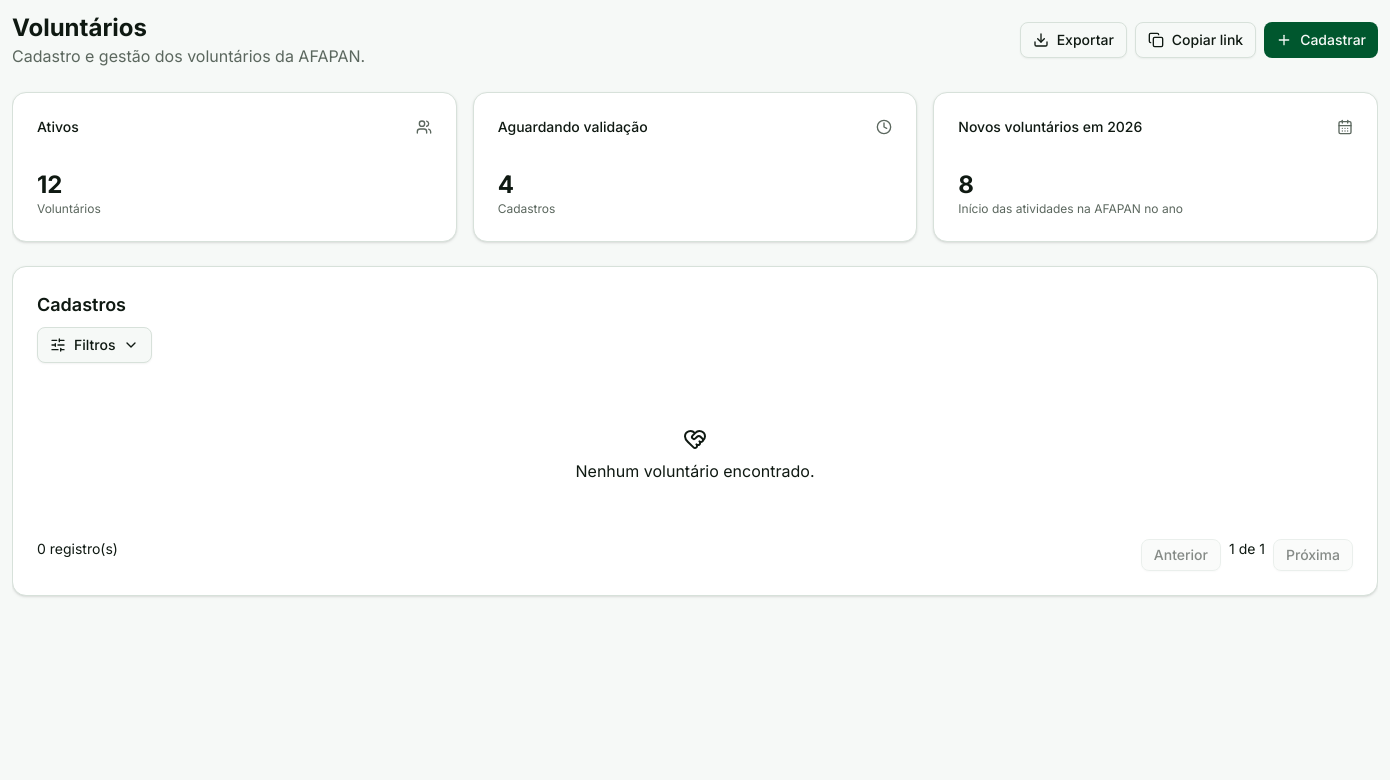
Scenario: listagem de voluntários com cadastro permanente › inicia com filtros recolhidos e permite expandir
Check: the field with placeholder "Cidade" is not shown
Click the button "Filtros" at (95, 345), box [37,327,152,363]
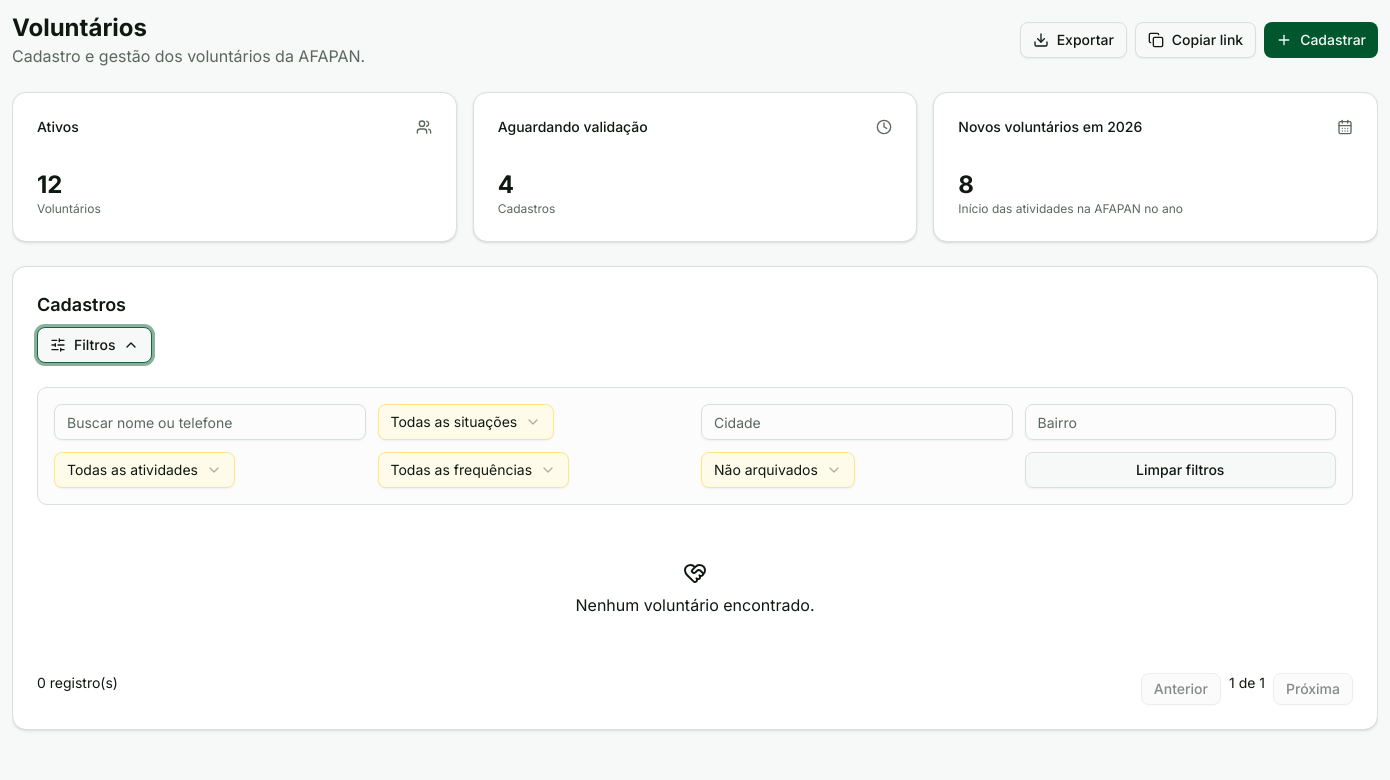
Check: the field with placeholder "Cidade" is shown, box [701,404,1012,440]
Check: the button "Filtros" is expanded, box [37,327,152,363]
